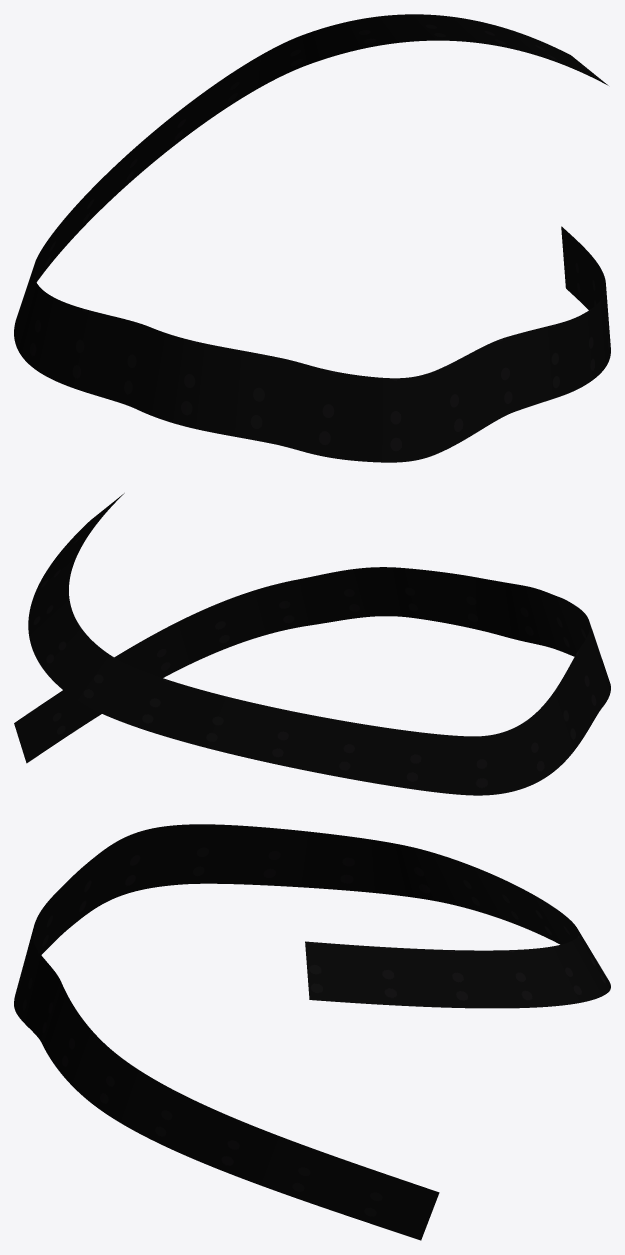
File: band_NO_ANI.FBX
3 renders of one model, top to bottom at view 1: azimuth 30°, elevation 25°; view 2: azimuth 150°, elevation 25°; view 3: azimuth 270°, elevation 25°, orthographic. The views are drawn at different scales.
Parts seen in each view (by area): view 1: Line001; view 2: Line001; view 3: Line001.
Part boxes in pixels (x1,y1,x2,y2): Line001: [14, 14, 610, 462]; Line001: [14, 493, 610, 795]; Line001: [14, 824, 610, 1240].
Size of the model in its own units: 930 by 446 by 883.
